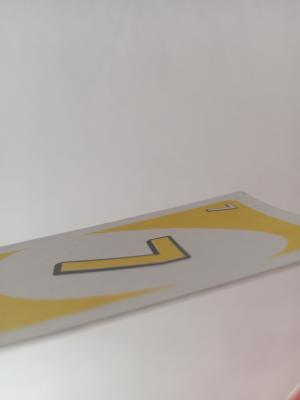num_7: (51, 232, 224, 275)
